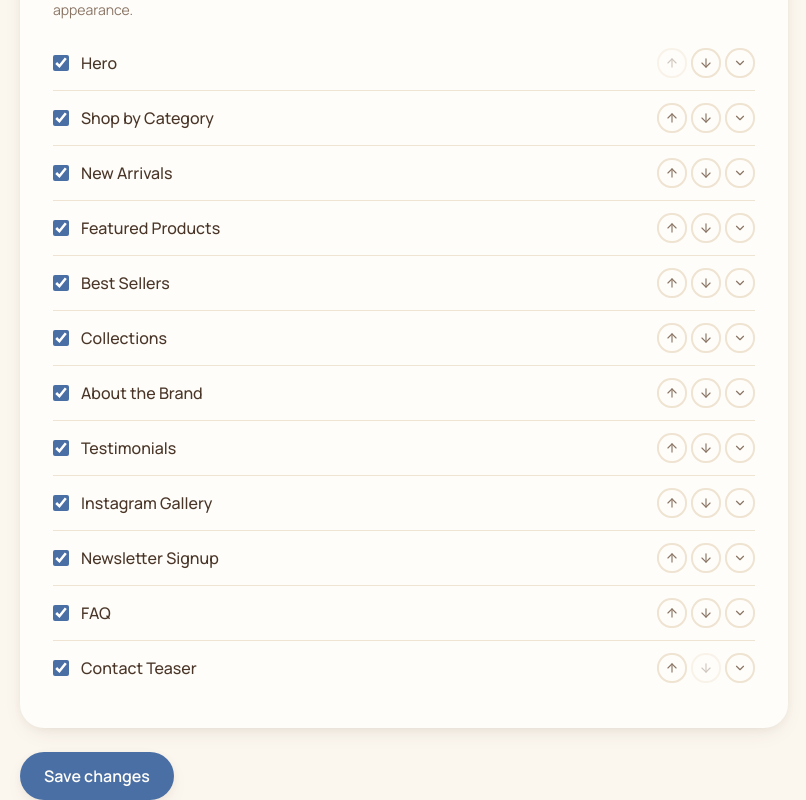
Test: HomepageEditor › saves the selected layout and full section list to localStorage, and shows a confirmation
The width and height of the screenshot is (806, 800).
(page scrolled)
Click the button "Save changes".
click(97, 776)  # box 20,752 -> 174,799
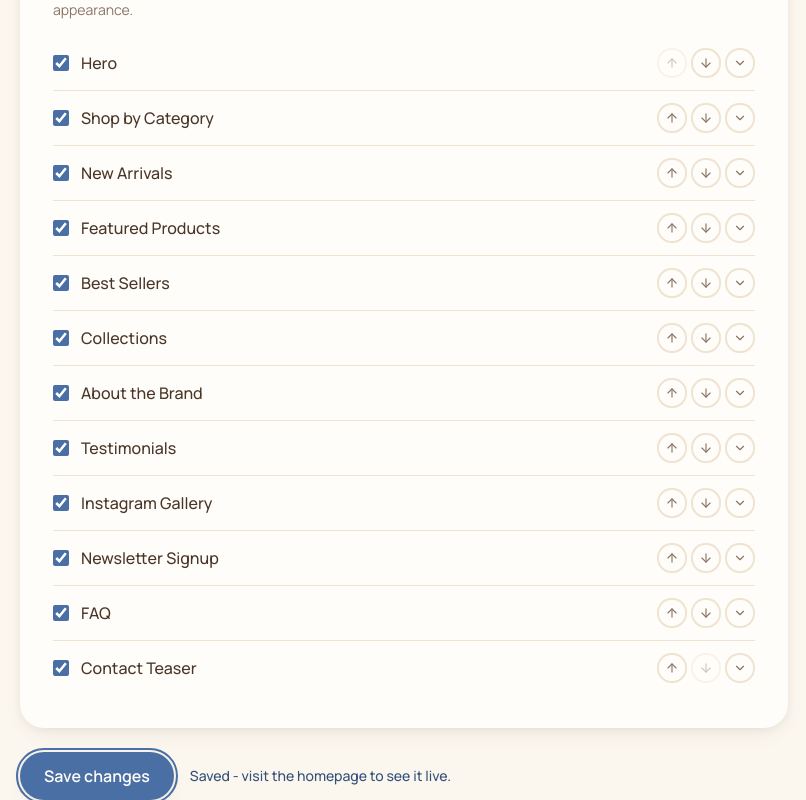
Expected: the message shows "Saved", 190,766 -> 451,785
